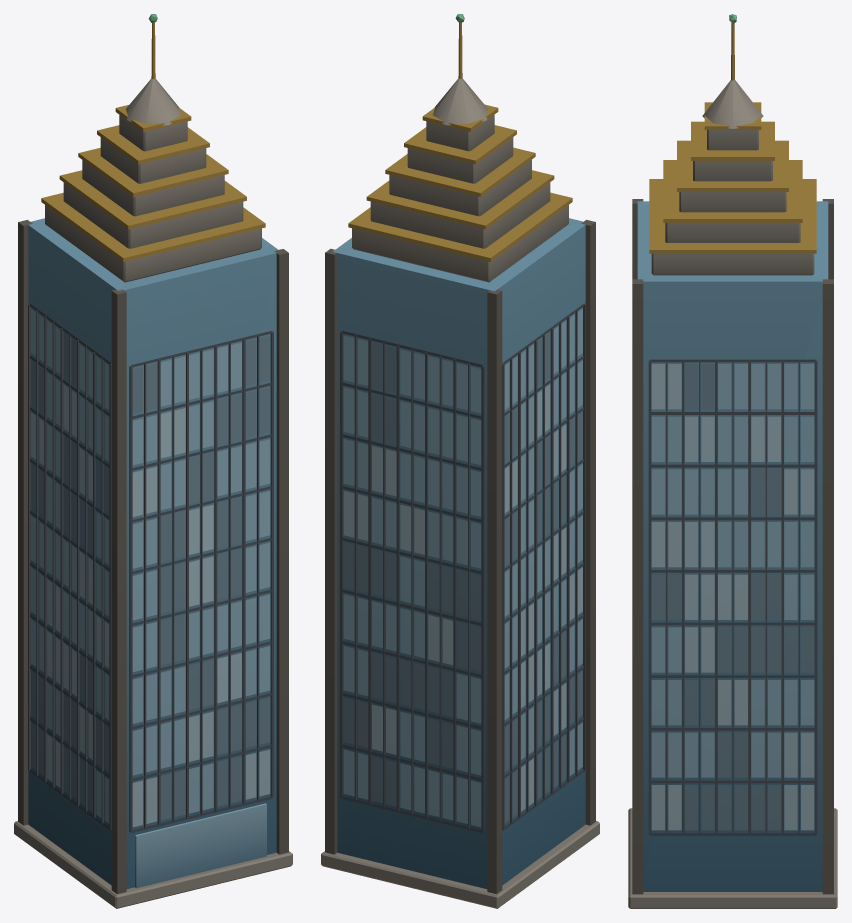
File: crown_tower_01.glb
The picture shows the model from 3 angles, left to right: view 1: azimuth 30°, elevation 25°; view 2: azimuth 150°, elevation 25°; view 3: azimuth 270°, elevation 25°; orthographic projection.
Visible parts, largest first — view 1: crown_tower_01; view 2: crown_tower_01; view 3: crown_tower_01.
Boxes of the visible parts, box(x1,y1,x2,y2) form: crown_tower_01: box(14, 14, 292, 908); crown_tower_01: box(321, 14, 599, 908); crown_tower_01: box(628, 14, 837, 908).
Size of the model in its own units: 6.8 by 30.53 by 6.8.
